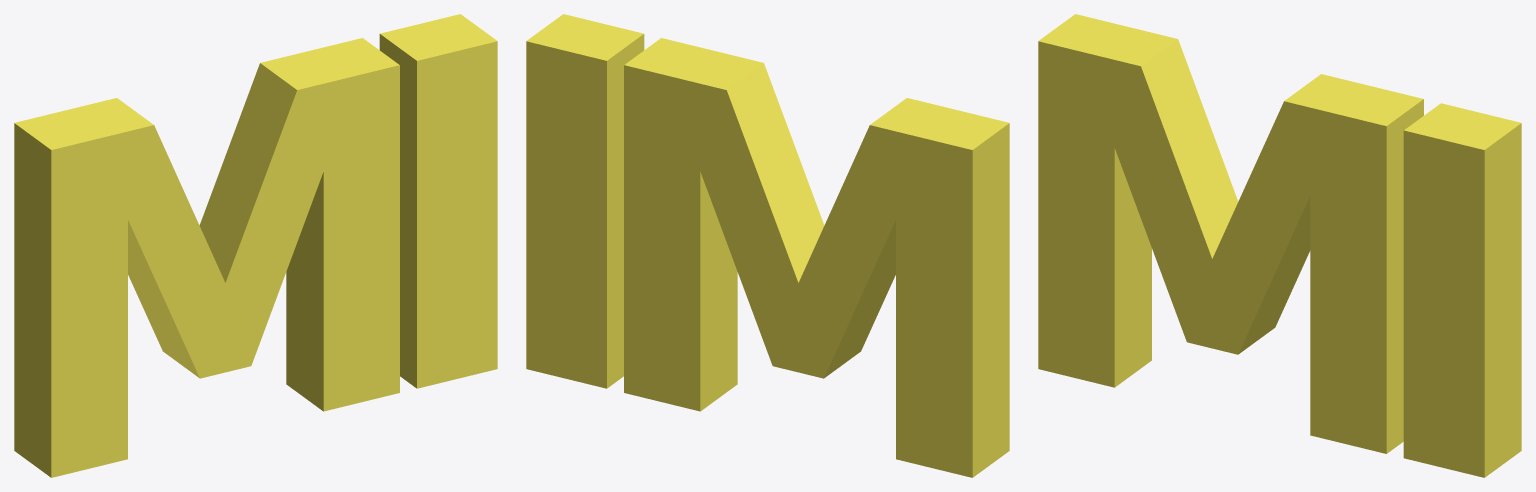
Rendered from suku_besar_mi.glb.
3 renders of one model, left to right at view 1: azimuth 30°, elevation 25°; view 2: azimuth 150°, elevation 25°; view 3: azimuth 330°, elevation 25°, orthographic.
Visible parts, largest first — view 1: geometry_0; view 2: geometry_0; view 3: geometry_0.
Part boxes in pixels (left/top/right/bottom): geometry_0: left=14, top=14, right=497, bottom=477; geometry_0: left=526, top=14, right=1009, bottom=477; geometry_0: left=1038, top=14, right=1521, bottom=477.
Size of the model in its own units: 10.39 by 7.29 by 1.5.
